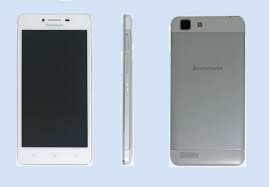lenovo: (14, 11, 96, 168), (165, 13, 246, 170)
